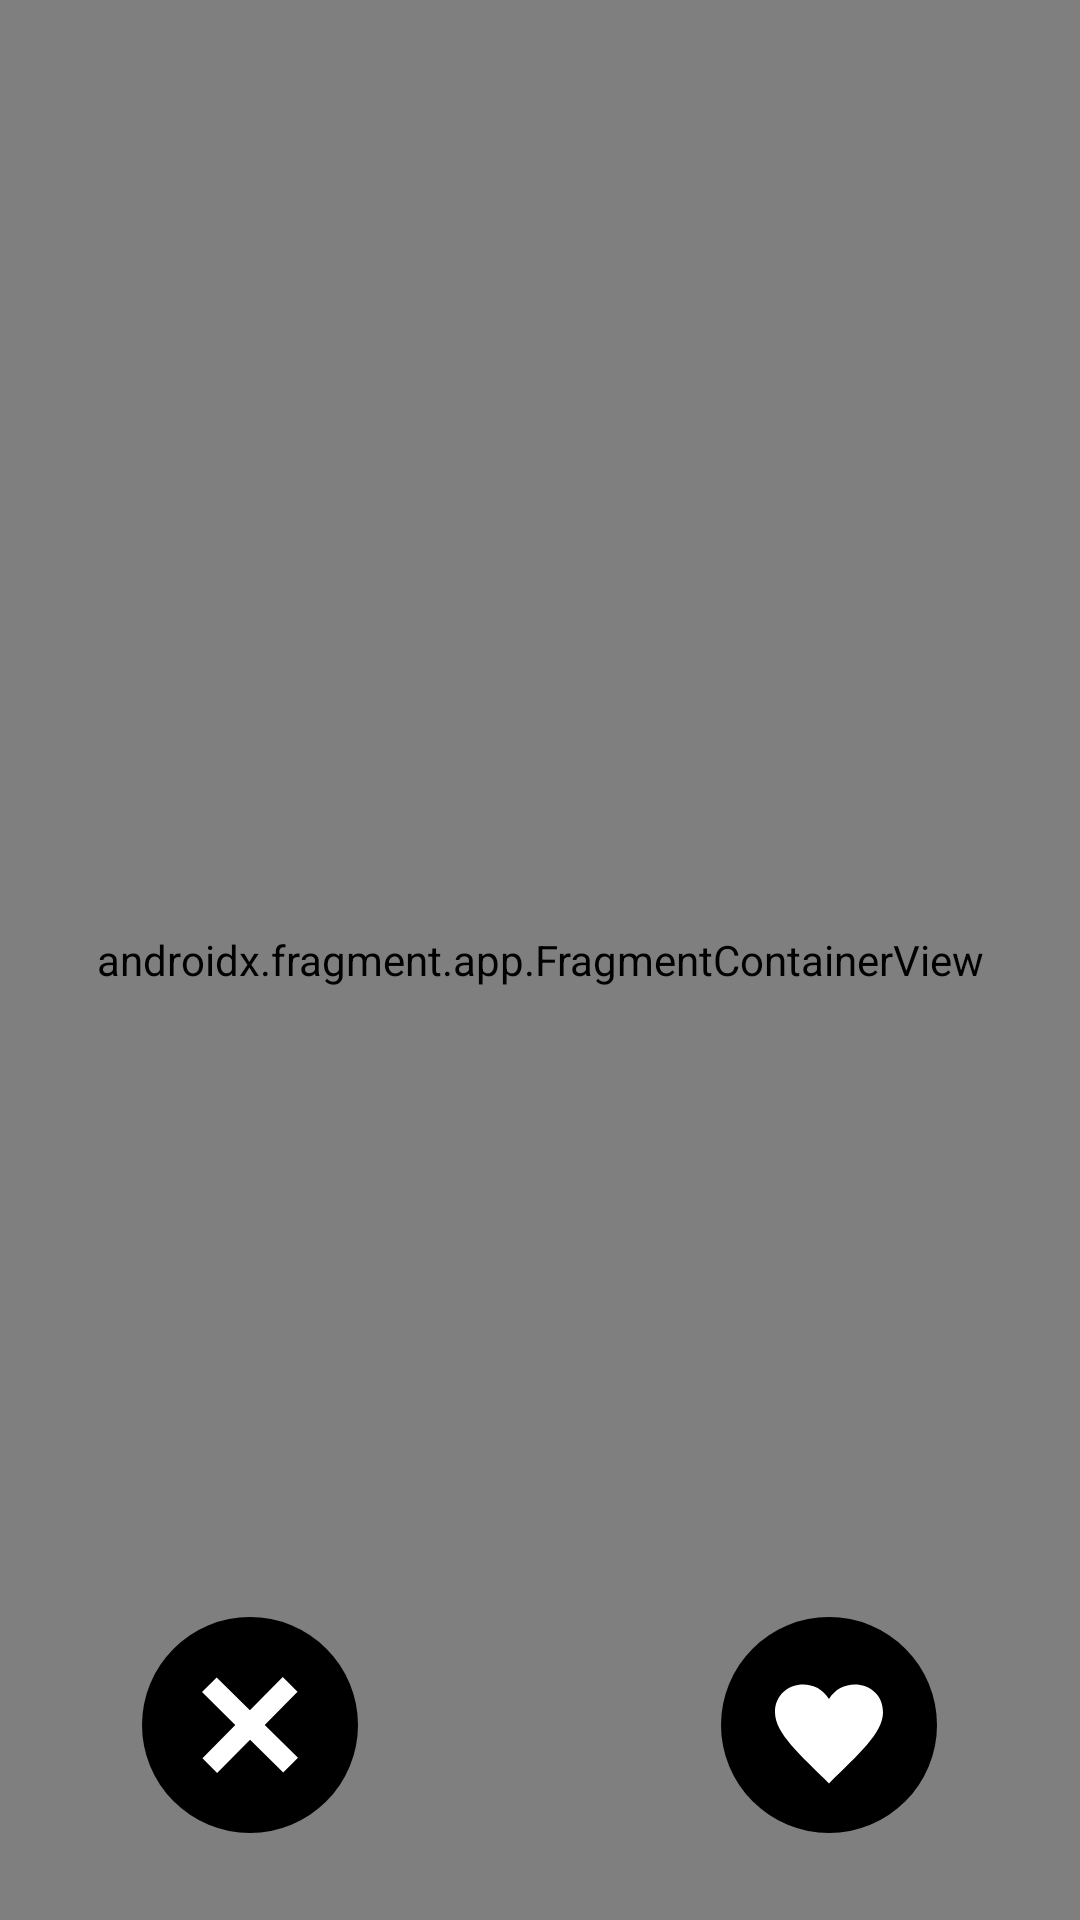

Icon bounding boxes for this 1080w x 1920h phone screenshot, format BBox(x1, y1, x2, y2):
iconmonstr favorite: BBox(721, 1617, 937, 1833)
iconmonstr mark: BBox(142, 1617, 358, 1833)
